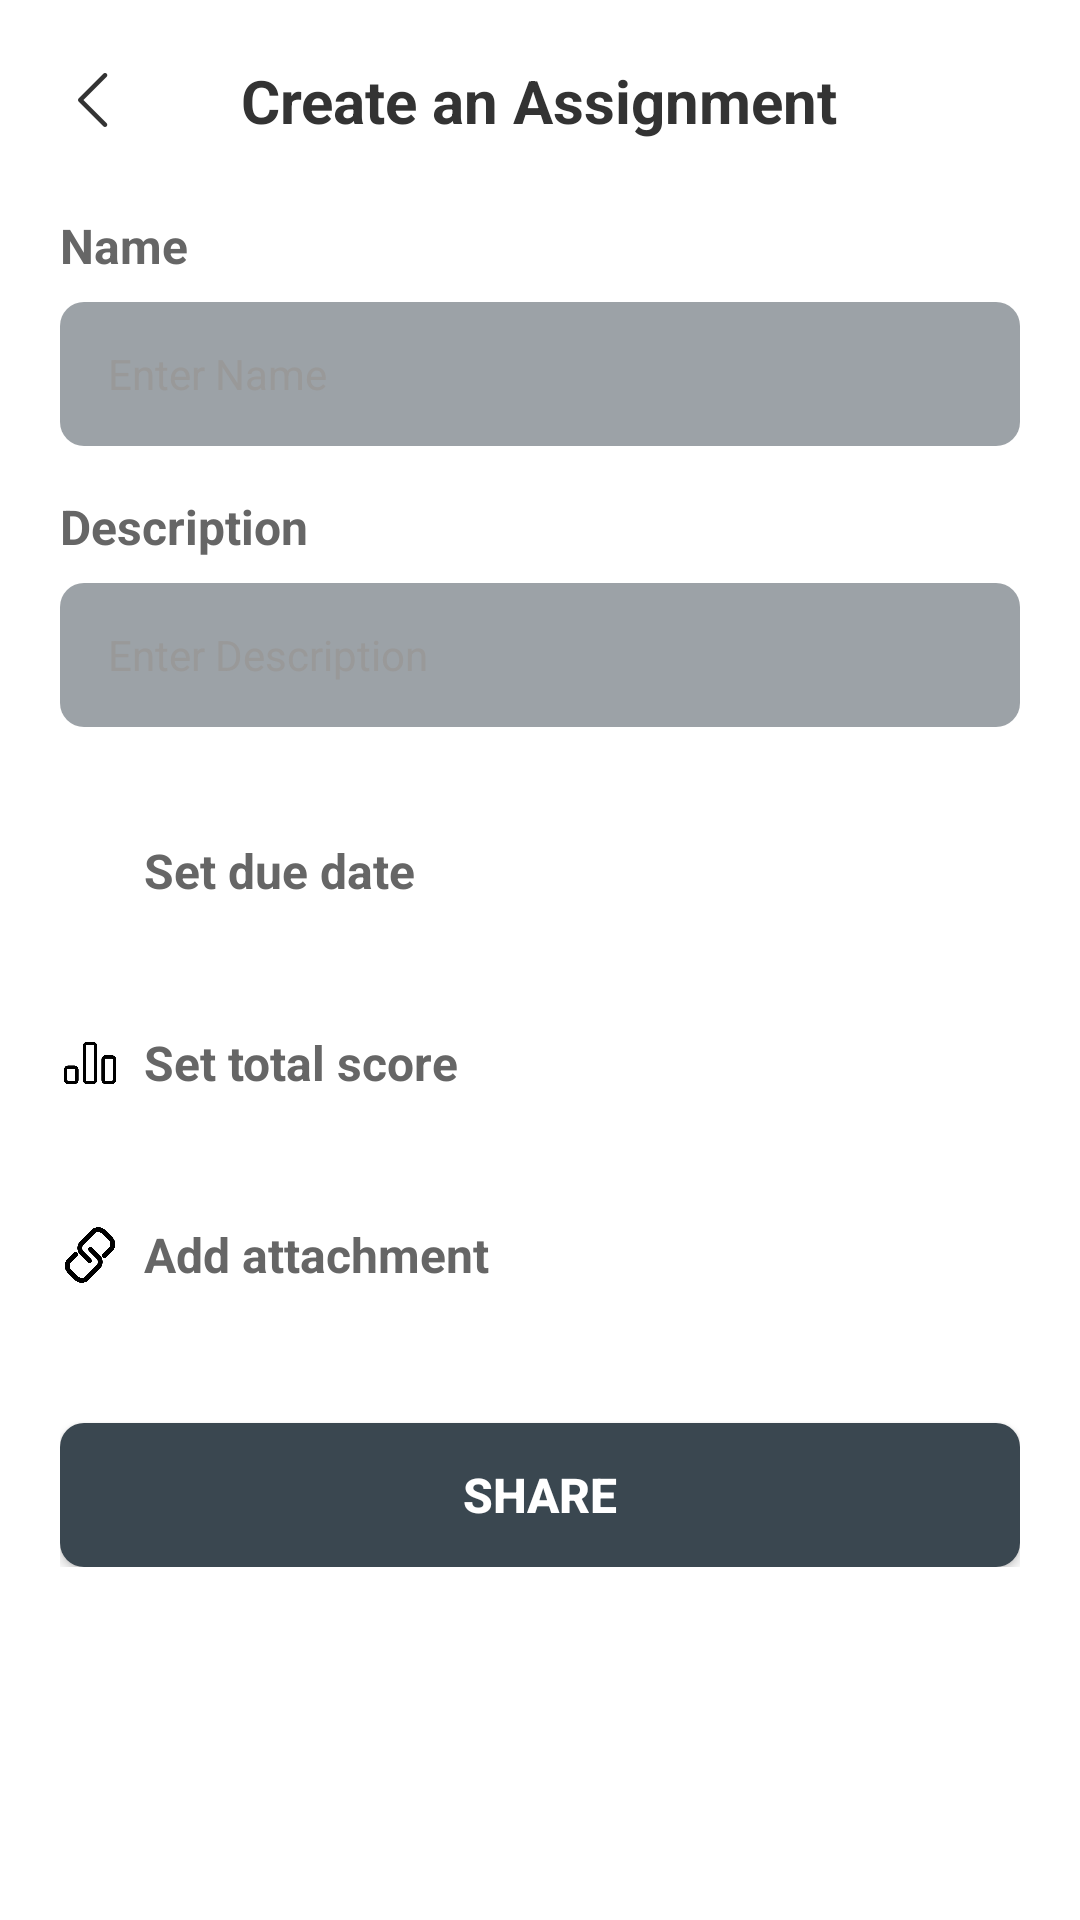

Where to tap for icons on this 1080px x 1920px app screen, as (x=x, y=y):
Back: (x=93, y=100)
